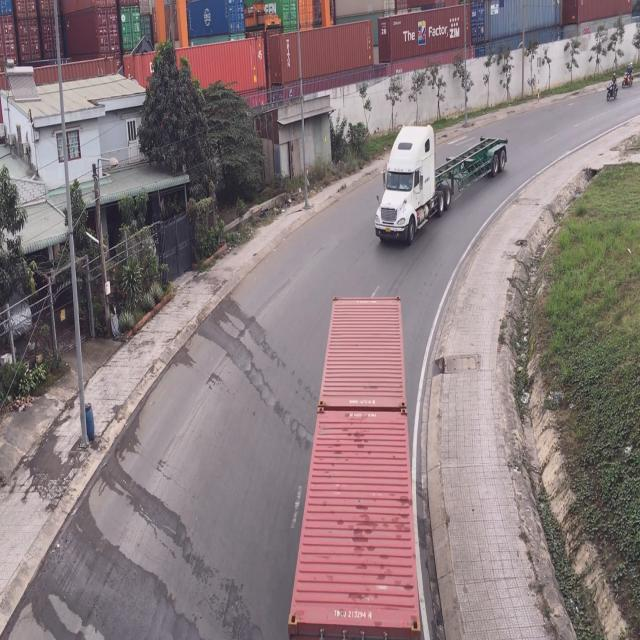motorbike: (604, 72, 617, 105)
truck: (292, 290, 422, 638), (377, 123, 510, 245), (377, 124, 440, 249)
